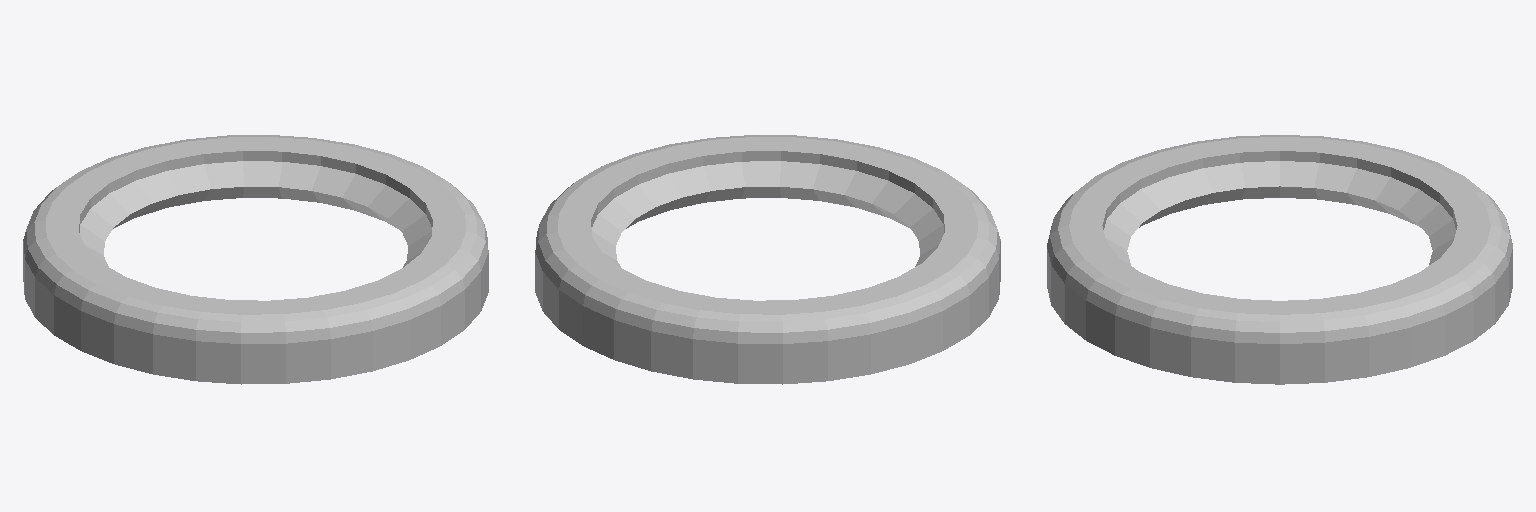
File: Сальник коленчатого вала передний.obj
The picture shows the model from 3 angles: view 1: azimuth 30°, elevation 25°; view 2: azimuth 150°, elevation 25°; view 3: azimuth 270°, elevation 25°; orthographic projection.
Parts seen in each view (by area): view 1: Сальник_коленвала_передний; view 2: Сальник_коленвала_передний; view 3: Сальник_коленвала_передний.
Boxes of the visible parts, x1,y1,x2,y2 form: Сальник_коленвала_передний: [23, 135, 488, 384]; Сальник_коленвала_передний: [535, 135, 1000, 384]; Сальник_коленвала_передний: [1047, 135, 1512, 384].
Size of the model in its own units: 42 by 6 by 42.